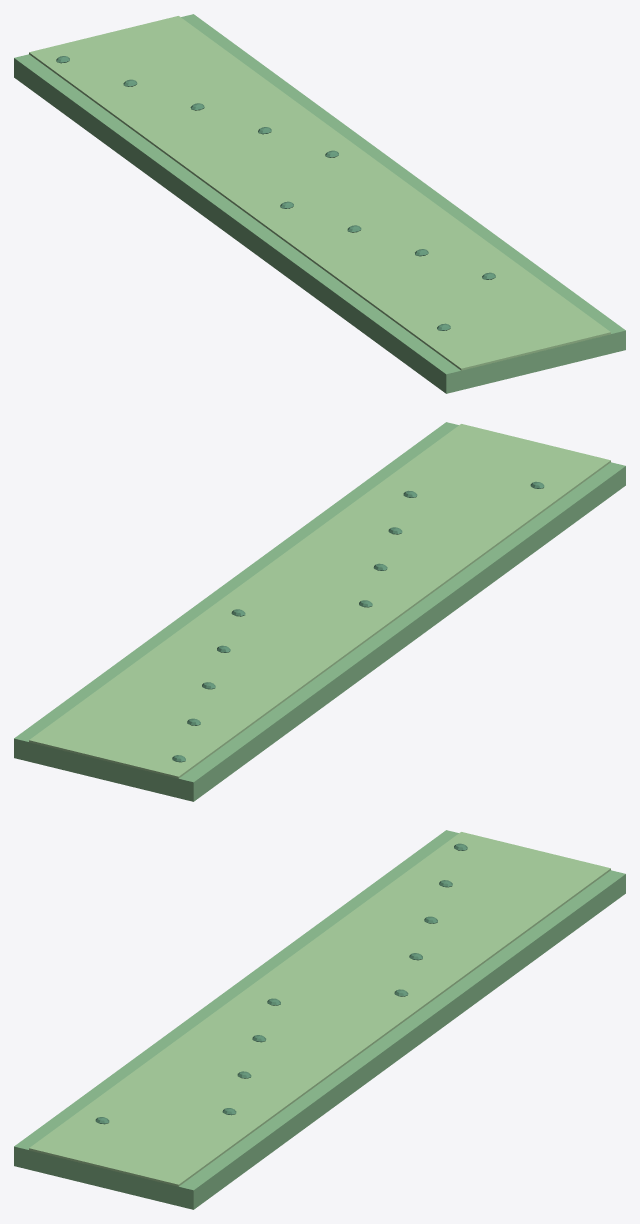
The model's file is isla_tramo.glb.
3 views of the same model, one above another, from view 1: azimuth 30°, elevation 25°; view 2: azimuth 150°, elevation 25°; view 3: azimuth 330°, elevation 25° (orthographic).
Parts seen in each view (by area): view 1: isla_tramo; view 2: isla_tramo; view 3: isla_tramo.
Boxes of the visible parts, x1,y1,x2,y2 form: isla_tramo: (14, 14, 625, 393); isla_tramo: (14, 422, 625, 801); isla_tramo: (14, 830, 625, 1209).
Size of the model in its own units: 4.8 by 0.65 by 20.
